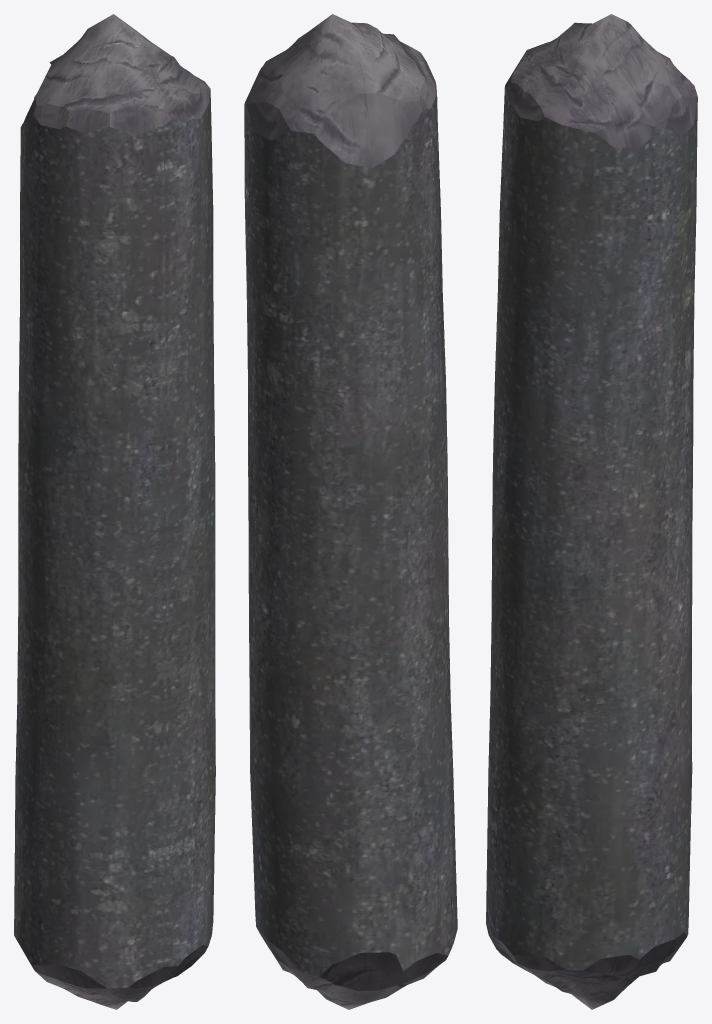
3 renders of one model, left to right at view 1: azimuth 30°, elevation 25°; view 2: azimuth 150°, elevation 25°; view 3: azimuth 270°, elevation 25°, orthographic.
Parts seen in each view (by area): view 1: SM_FH_Ash_Tree_03_quarter_04_LOD0; view 2: SM_FH_Ash_Tree_03_quarter_04_LOD0; view 3: SM_FH_Ash_Tree_03_quarter_04_LOD0.
Part boxes in pixels (<box>): SM_FH_Ash_Tree_03_quarter_04_LOD0: <box>14,14,215,1009</box>; SM_FH_Ash_Tree_03_quarter_04_LOD0: <box>244,14,457,1009</box>; SM_FH_Ash_Tree_03_quarter_04_LOD0: <box>486,14,697,1009</box>.
Size of the model in its own units: 0.4539 by 2.41 by 0.4637.
1 material, 1 textured.
